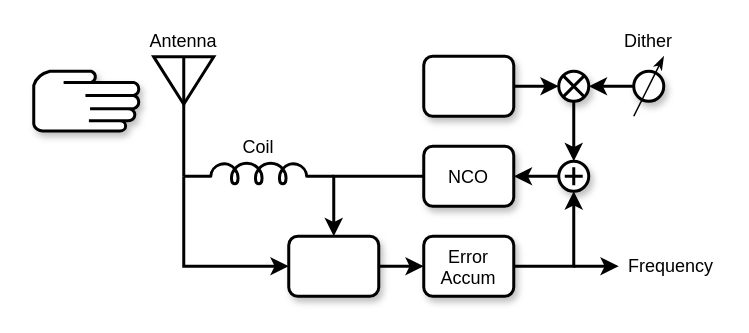
Image size: 749x333. Some labels were removed from this diagram. The centre of each missing label's shape, as x and y in pixels:
48kHz Triangle: the point at 470,88
Phase Detector: the point at 334,268
